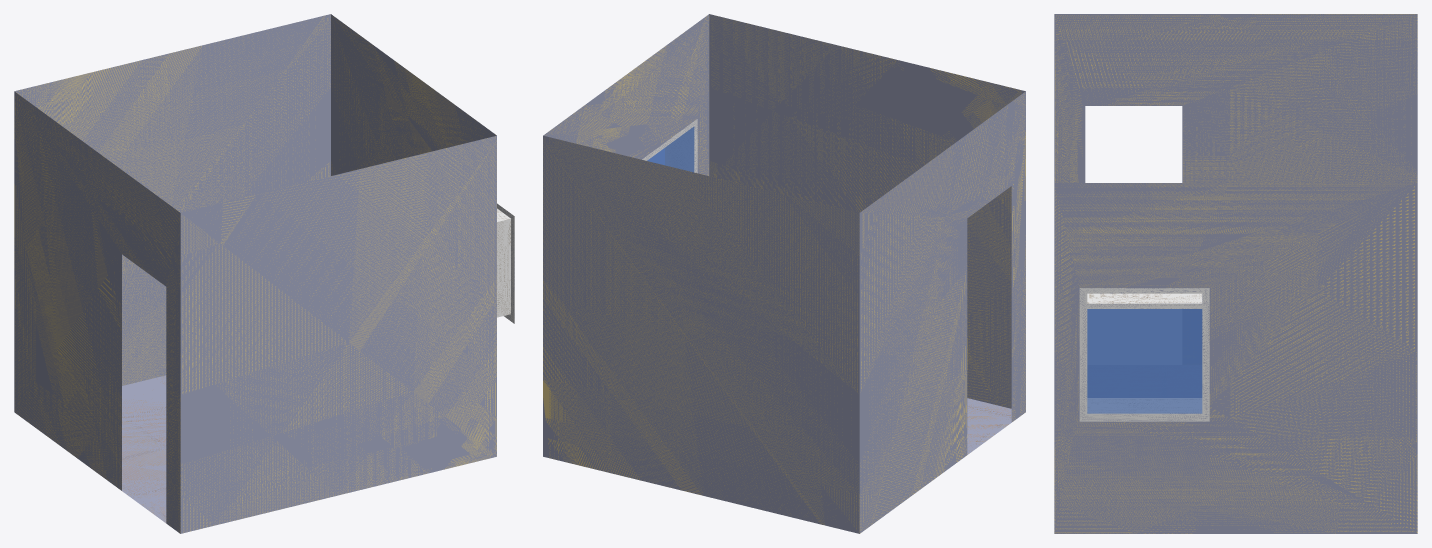
File: DES010.obj
3 renders of one model, left to right at view 1: azimuth 30°, elevation 25°; view 2: azimuth 150°, elevation 25°; view 3: azimuth 270°, elevation 25°, orthographic. The views are drawn at different scales.
Visible parts, largest first — view 1: Mesh5 DES010 Model, Mesh1 Group1 DES010 Model; view 2: Mesh5 DES010 Model, Mesh1 Group1 DES010 Model; view 3: Mesh5 DES010 Model, Mesh1 Group1 DES010 Model.
Part boxes in pixels (left/top/right/bottom): Mesh5 DES010 Model: left=14, top=14, right=496, bottom=533; Mesh1 Group1 DES010 Model: left=497, top=203, right=514, bottom=323; Mesh5 DES010 Model: left=543, top=14, right=1025, bottom=533; Mesh1 Group1 DES010 Model: left=642, top=119, right=697, bottom=173; Mesh5 DES010 Model: left=1054, top=14, right=1417, bottom=533; Mesh1 Group1 DES010 Model: left=1079, top=288, right=1209, bottom=421.
Bounding box in the file's own units: 3.38 × 3 × 2.82.
Materials: 6 (2 with a texture image).
